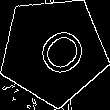O_SW: (21, 18, 86, 83)
